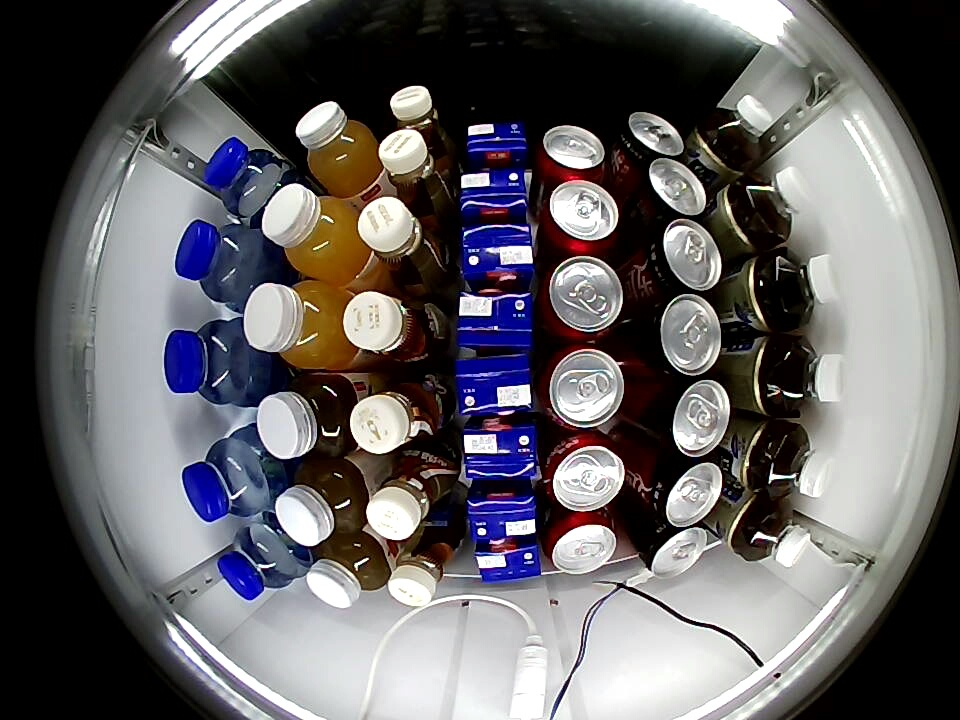bingqilinniunai: (456, 287, 534, 355), (455, 355, 535, 418), (462, 419, 539, 481), (459, 225, 535, 286), (466, 486, 539, 543), (458, 169, 530, 223), (464, 121, 529, 170), (475, 538, 542, 584)
chapai: (256, 372, 358, 459), (274, 457, 369, 546), (306, 531, 390, 608)
kafei: (358, 197, 451, 294), (366, 444, 459, 540), (349, 371, 454, 454), (343, 291, 445, 368), (378, 130, 457, 218), (387, 522, 463, 607), (389, 86, 456, 158)
kele: (539, 345, 626, 431), (540, 255, 625, 341), (543, 433, 626, 512), (541, 179, 620, 254), (543, 513, 618, 575), (539, 124, 607, 181)
lingdukele: (637, 294, 723, 376), (654, 379, 734, 457), (641, 220, 723, 294), (646, 454, 726, 528), (633, 158, 712, 222), (635, 519, 712, 578), (616, 112, 686, 169)
maidong: (181, 433, 275, 523), (174, 220, 269, 306), (163, 319, 257, 405), (215, 520, 307, 602), (203, 137, 291, 220)
weic: (262, 185, 372, 283), (242, 281, 358, 369), (296, 101, 382, 196)
wulongcha: (698, 94, 777, 170), (772, 336, 847, 415), (763, 424, 836, 499), (773, 251, 841, 329), (741, 167, 812, 241), (739, 500, 813, 567)
